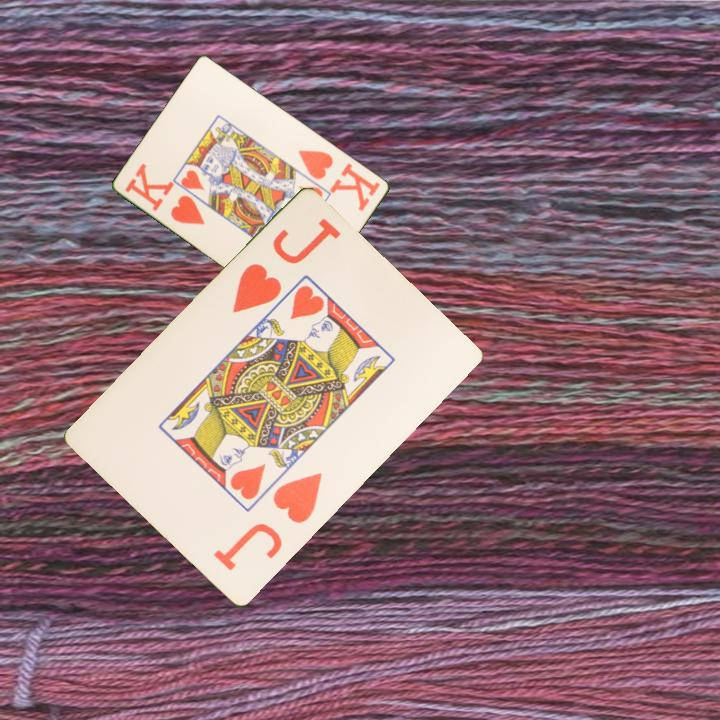Jh: (210, 469, 326, 575), (228, 260, 285, 317)
Kh: (295, 146, 384, 214), (122, 160, 208, 228)
